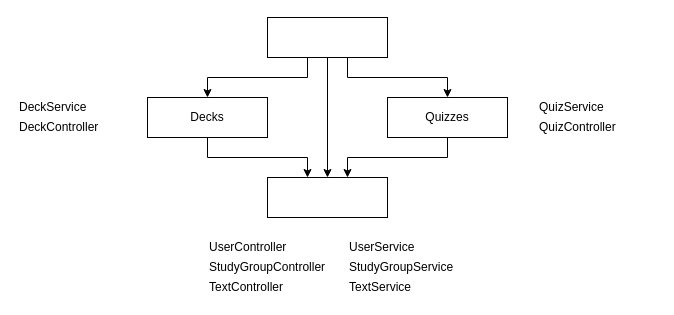
This 674x315 diagram has some shape labels left out. Here are the shapes that lost their labels. From the top down, the centre of each, then its label:
At [327,37]: "App".
At [327,197]: "Core".
